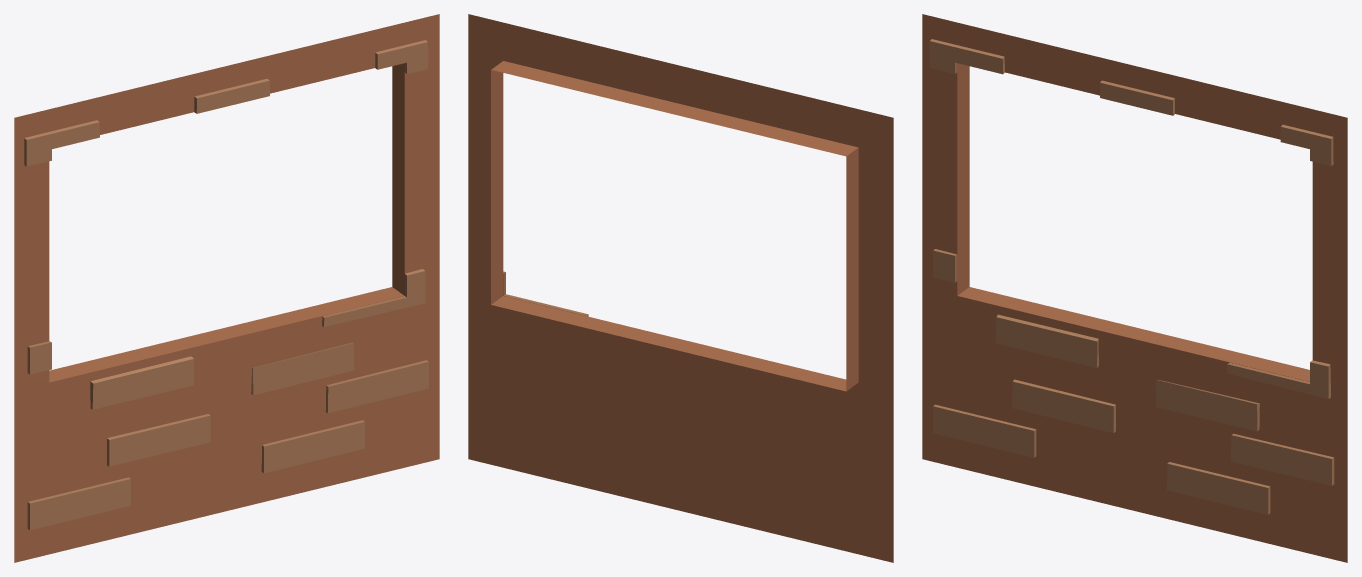
Rendered from Ext-BrickV3Windowframe.fbx.
The picture shows the model from 3 angles, left to right: view 1: azimuth 30°, elevation 25°; view 2: azimuth 150°, elevation 25°; view 3: azimuth 330°, elevation 25°; orthographic projection.
Parts seen in each view (by area): view 1: Ext-BrickV3Windowframe; view 2: Ext-BrickV3Windowframe; view 3: Ext-BrickV3Windowframe.
Boxes of the visible parts, box(x1,y1,x2,y2) form: Ext-BrickV3Windowframe: box(14, 14, 439, 562); Ext-BrickV3Windowframe: box(468, 14, 893, 562); Ext-BrickV3Windowframe: box(922, 14, 1347, 562).
Size of the model in its own units: 200 by 200 by 12.
